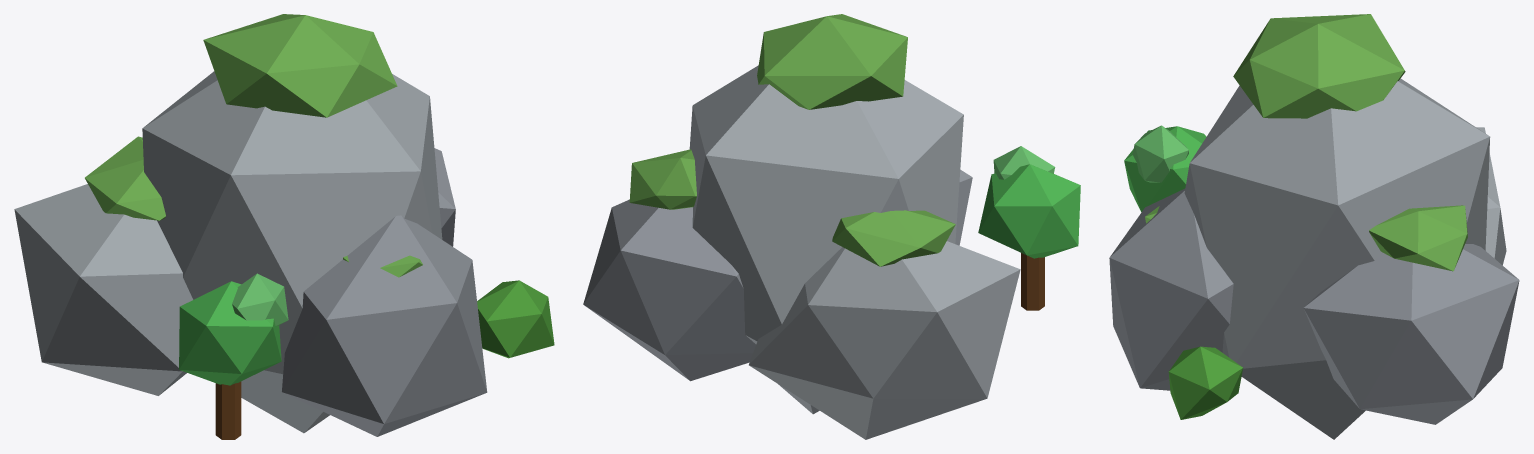
File: fe-hill-BIjDxyte.glb
The picture shows the model from 3 angles, left to right: view 1: azimuth 30°, elevation 25°; view 2: azimuth 150°, elevation 25°; view 3: azimuth 270°, elevation 25°; orthographic projection. The views are drawn at different scales.
Parts seen in each view (by area): view 1: Icosphere; view 2: Icosphere; view 3: Icosphere.
Boxes of the visible parts, x1=… form: Icosphere: x1=14, y1=14, x2=554, y2=439; Icosphere: x1=583, y1=14, x2=1080, y2=439; Icosphere: x1=1109, y1=14, x2=1519, y2=439.
Bounding box in the file's own units: 0.9263 × 0.9299 × 0.8371.
